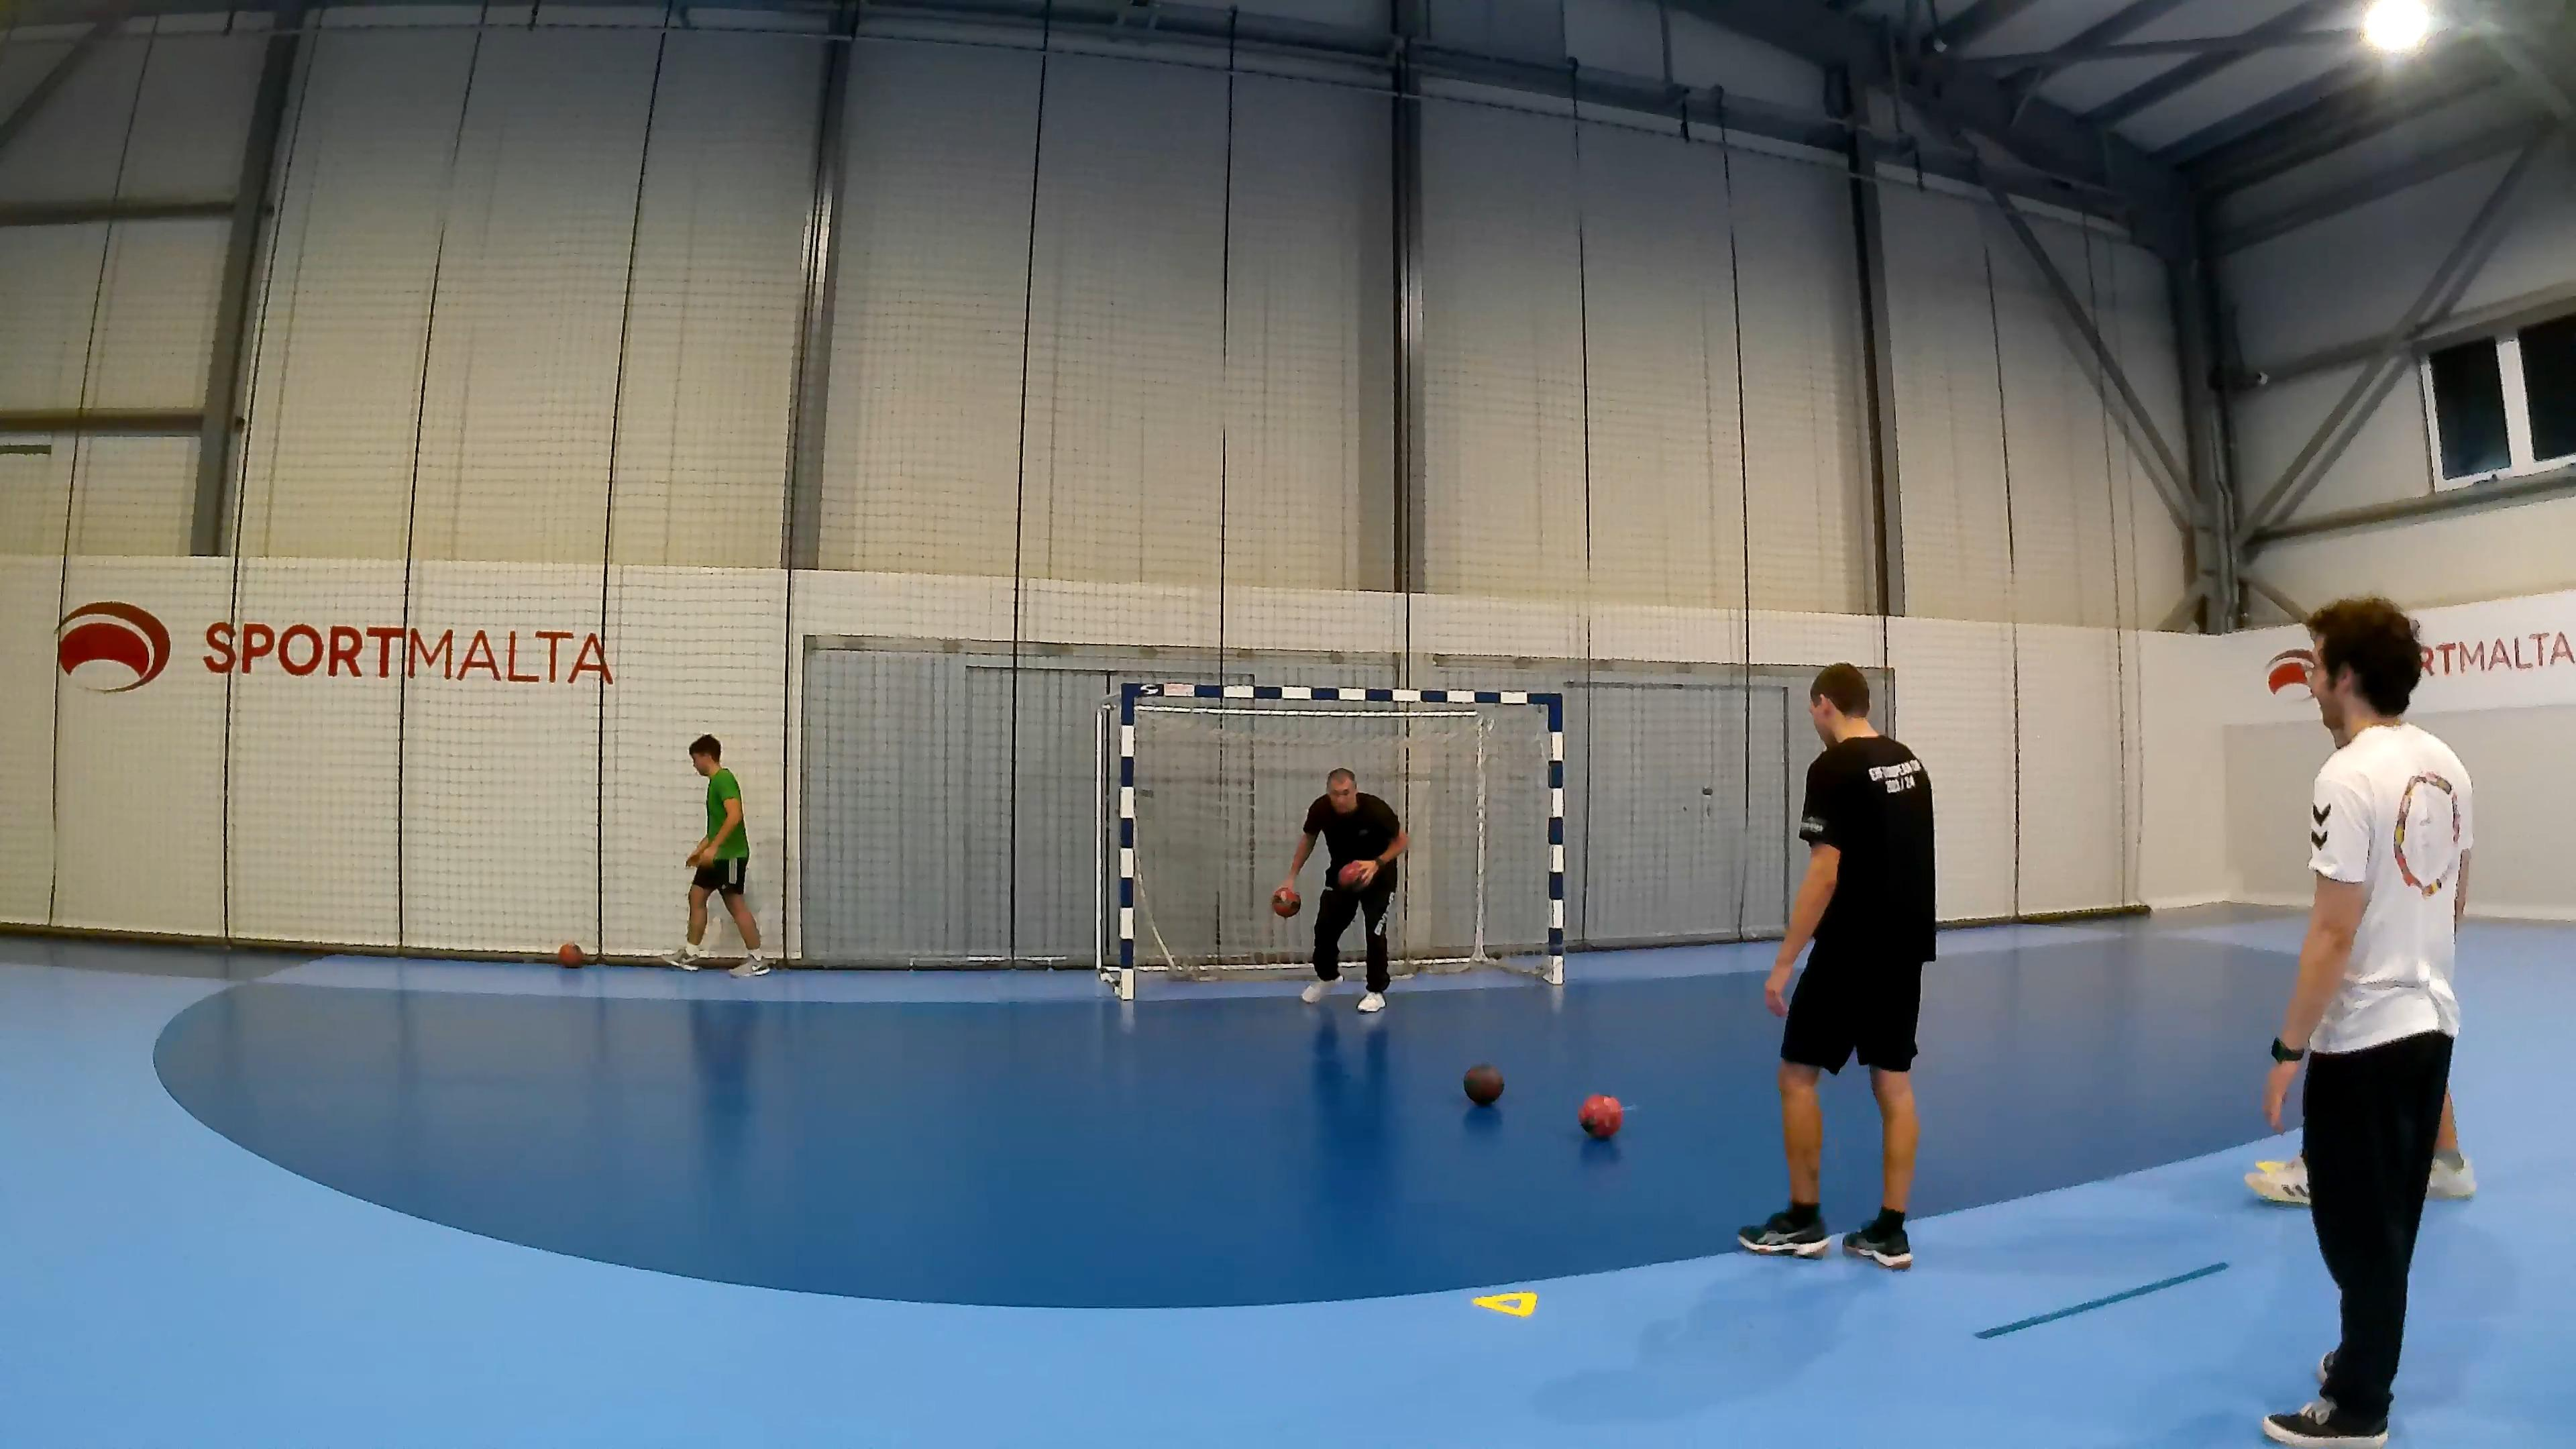handball: (1576, 1092, 1622, 1138), (1463, 1063, 1504, 1106), (1338, 862, 1366, 899), (1270, 885, 1300, 916), (556, 945, 586, 975)
